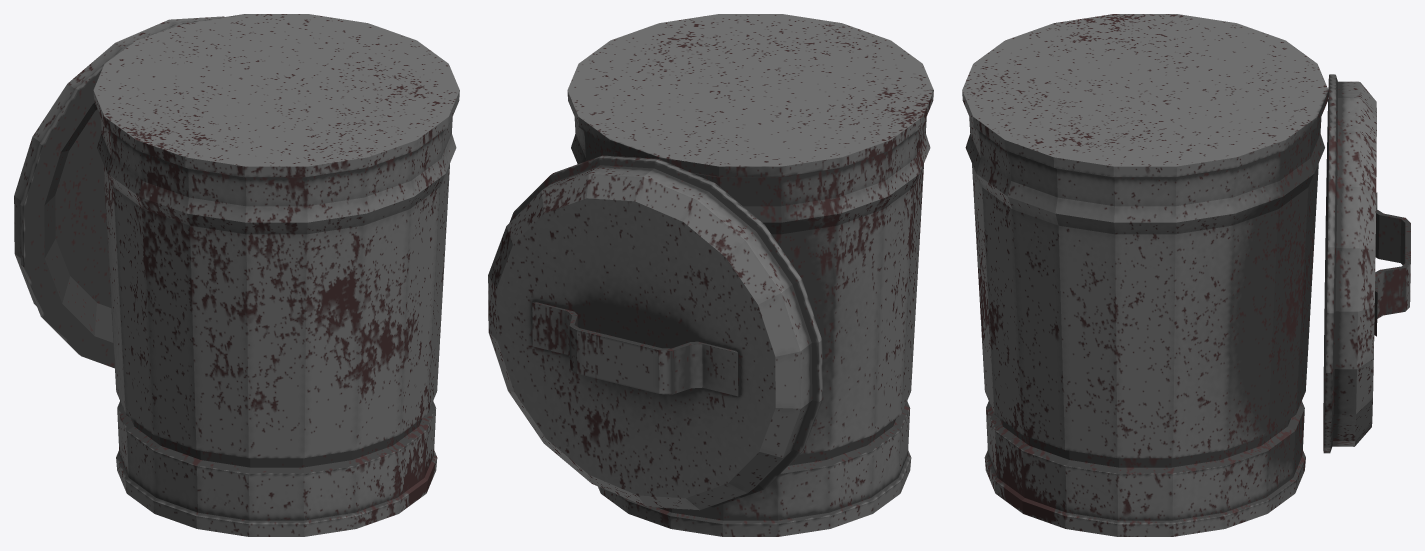
Rendered from Trashcan_Goblin.fbx.
3 views of the same model, side by side, from view 1: azimuth 30°, elevation 25°; view 2: azimuth 150°, elevation 25°; view 3: azimuth 270°, elevation 25° (orthographic).
Visible parts, largest first — view 1: Trashcan; view 2: Trashcan; view 3: Trashcan.
Boxes of the visible parts, x1,y1,x2,y2 form: Trashcan: [14, 14, 459, 536]; Trashcan: [488, 14, 933, 536]; Trashcan: [962, 14, 1410, 536].
Size of the model in its own units: 430 by 481 by 515.
Materials: 1 (1 with a texture image).
